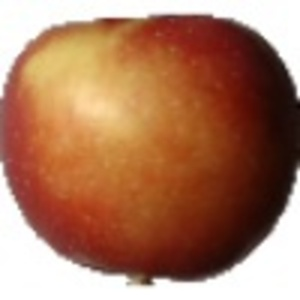maçã braeburn: (1, 11, 299, 282)
